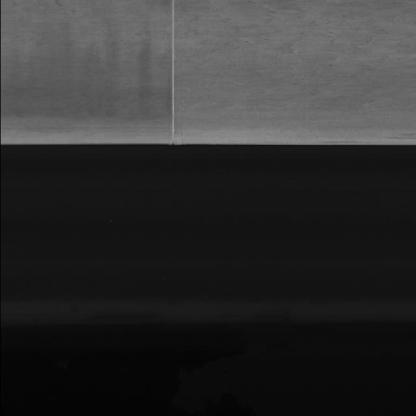silk_spot: (190, 4, 405, 88), (6, 3, 149, 58)
welding_line: (162, 0, 184, 144)
